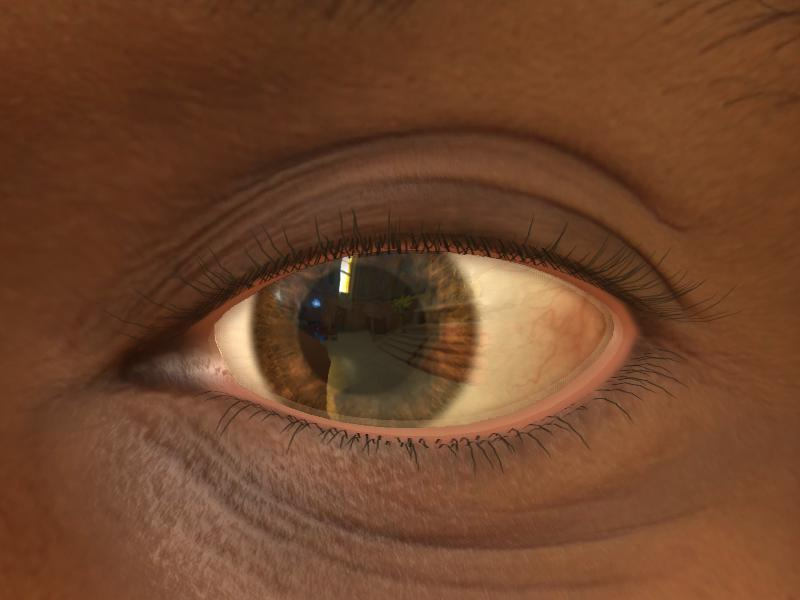eye: (251, 245, 481, 433)
